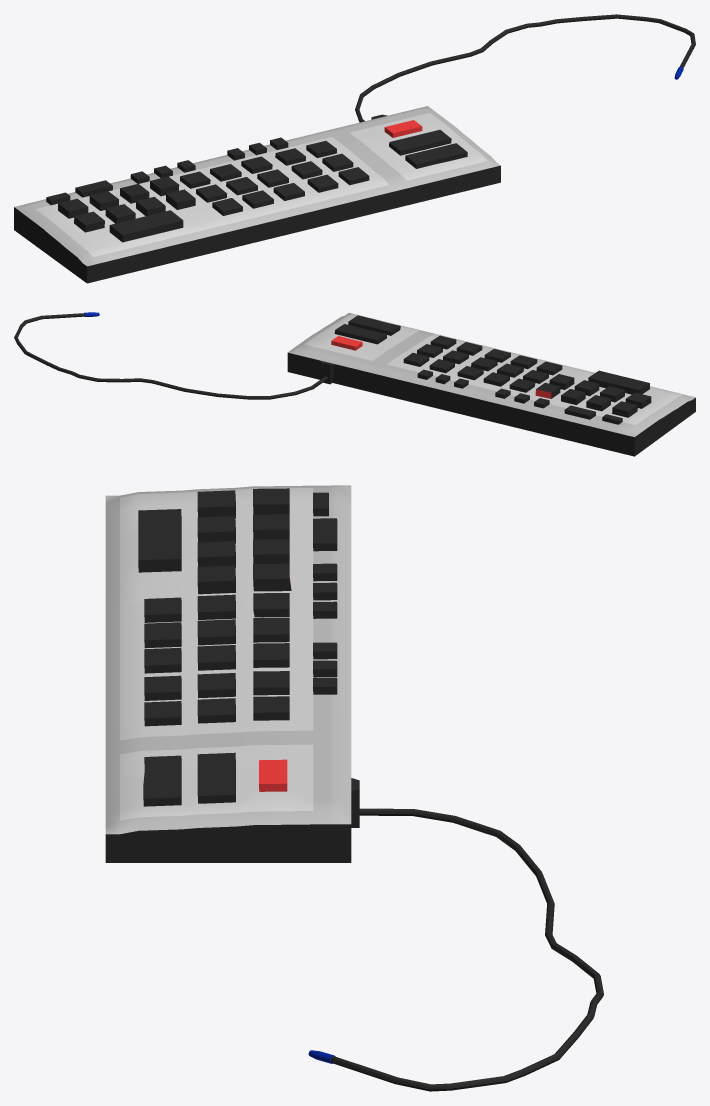
File: 5df695d0-a00a-43cc-bdac-ba70dfea6a45.glb
3 renders of one model, top to bottom at view 1: azimuth 30°, elevation 25°; view 2: azimuth 150°, elevation 25°; view 3: azimuth 270°, elevation 25°, orthographic. The views are drawn at different scales.
Visible parts, largest first — view 1: Object002; view 2: Object002; view 3: Object002.
Part boxes in pixels (x1,y1,x2,y2): Object002: [14, 14, 695, 283]; Object002: [14, 313, 695, 456]; Object002: [105, 485, 603, 1091].
Bounding box in the file's own units: 37.81 × 1.74 × 13.81.
